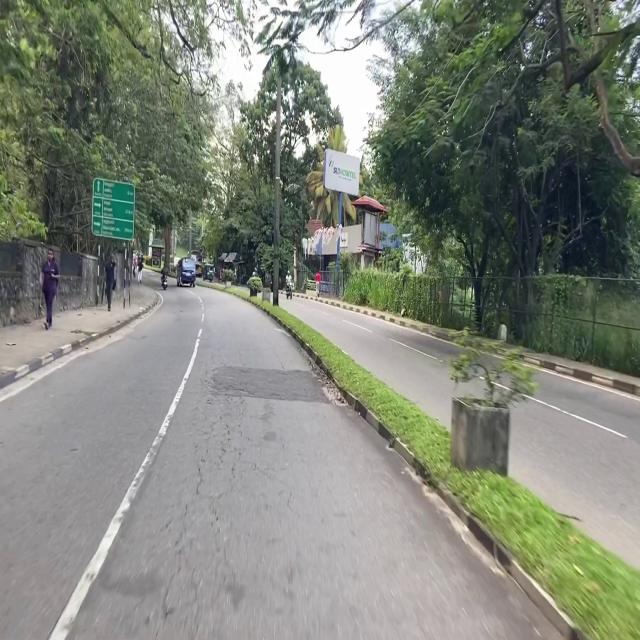bus: (191, 251, 202, 277)
motorcycle: (286, 284, 292, 299), (162, 277, 167, 290)
person: (40, 248, 59, 329), (105, 257, 116, 311), (138, 257, 143, 283), (316, 270, 320, 296), (286, 270, 292, 286), (161, 264, 167, 280)
three wheeler: (203, 264, 214, 282)
van: (177, 258, 195, 287)
